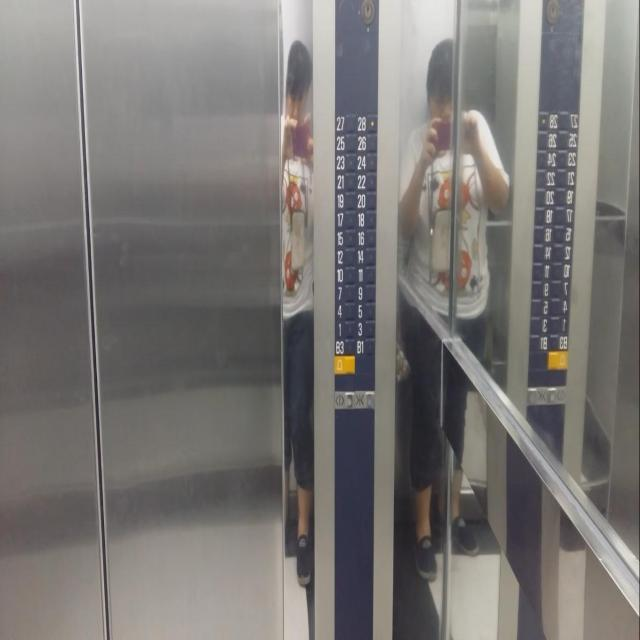1: (334, 318, 356, 338), (549, 315, 570, 334)
10: (334, 265, 356, 286)
11: (356, 265, 377, 284)
12: (334, 246, 356, 268)
14: (356, 247, 377, 266)
15: (334, 228, 356, 248)
16: (356, 228, 377, 248)
17: (334, 209, 356, 230)
18: (528, 333, 549, 352), (356, 210, 377, 228)
19: (334, 189, 356, 210)
20: (356, 190, 377, 209)
21: (334, 171, 357, 190)
22: (356, 171, 377, 190)
23: (334, 152, 356, 172)
24: (356, 152, 377, 172)
25: (334, 132, 356, 152)
26: (356, 132, 378, 152)
27: (334, 114, 356, 134)
28: (356, 112, 378, 132)
3: (356, 320, 376, 338)
4: (334, 302, 356, 321)
5: (356, 302, 376, 321)
7: (334, 284, 356, 304)
9: (356, 284, 377, 302)
B1: (357, 336, 376, 356)
B3: (334, 336, 356, 356)
alarm: (546, 349, 568, 370), (333, 354, 355, 374)
close: (355, 388, 376, 410), (526, 385, 546, 407)
keyhole: (359, 0, 377, 25)
open: (547, 385, 569, 406), (333, 388, 354, 409)
unknown: (555, 168, 577, 188), (550, 278, 572, 298), (536, 129, 557, 149), (536, 149, 556, 170), (552, 242, 573, 262), (536, 111, 558, 130), (556, 130, 578, 149), (553, 206, 575, 225), (554, 187, 576, 206), (528, 314, 550, 333), (552, 260, 572, 280), (534, 169, 555, 188), (532, 224, 553, 243), (548, 332, 569, 351), (530, 260, 552, 278), (530, 279, 552, 297), (558, 111, 578, 130), (554, 225, 574, 244), (556, 150, 577, 168), (534, 188, 554, 206), (533, 206, 553, 224), (532, 242, 552, 260), (550, 298, 570, 316), (529, 297, 550, 314)
